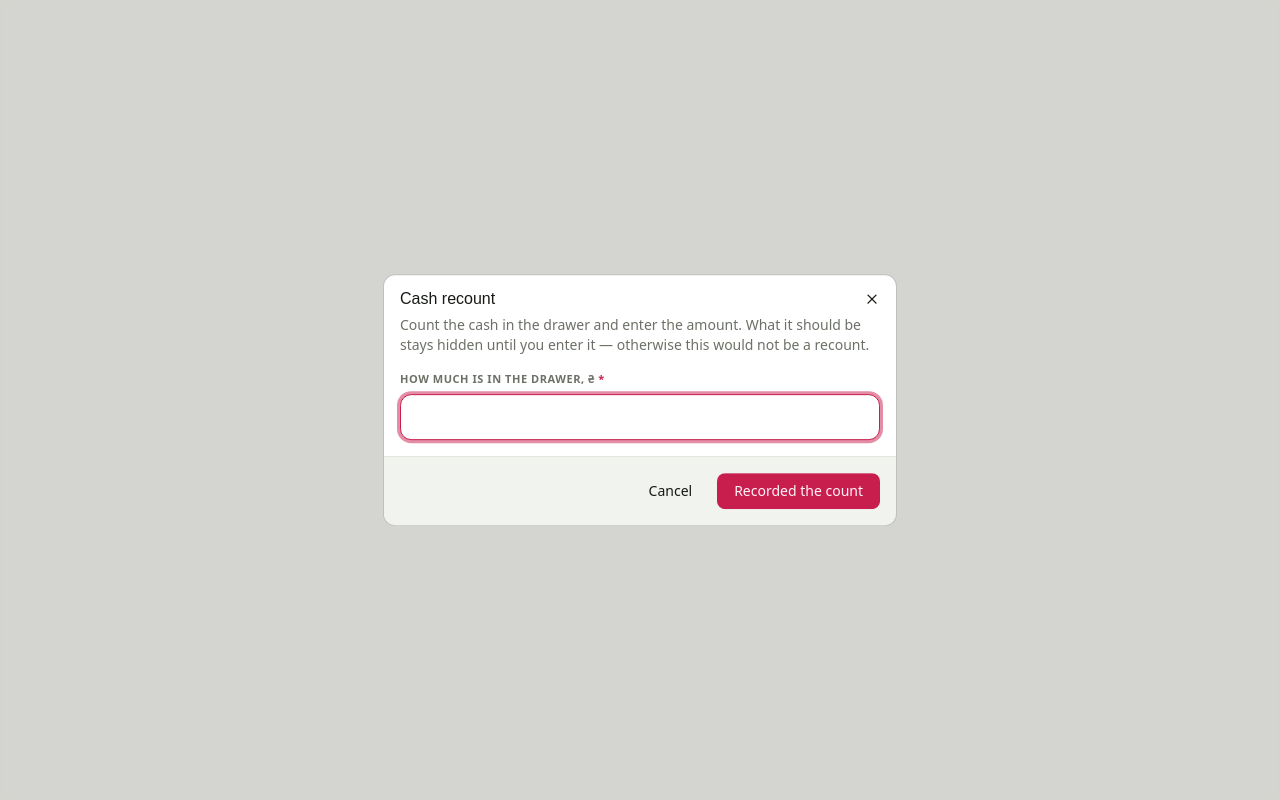
Scenario: RecountDrawerDialog › shows the result view — expected, counted and a matched pill — after a matching recount
The image size is (1280, 800).
Type "1500.00" into the field at [640, 417], box [400,394,880,440]
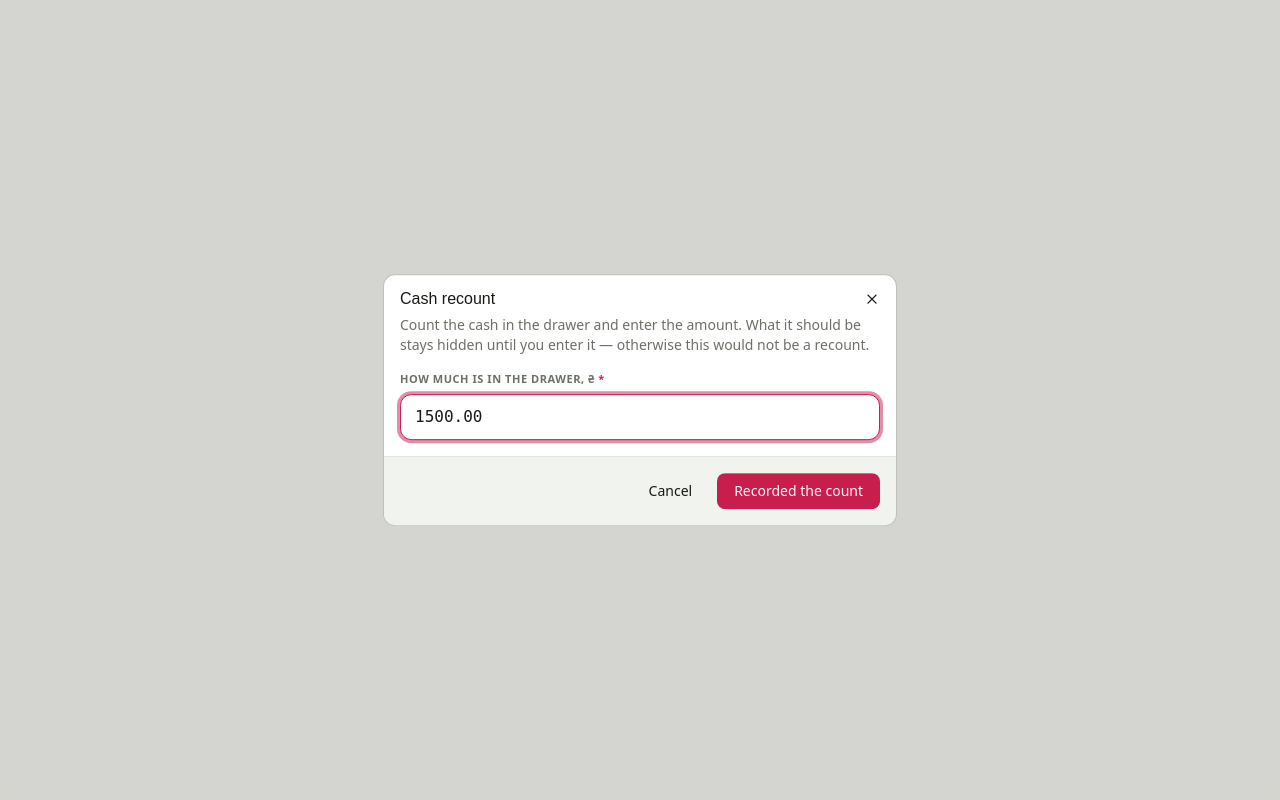
Click the button "Recorded the count" at [799, 491], box [717,473,880,509]
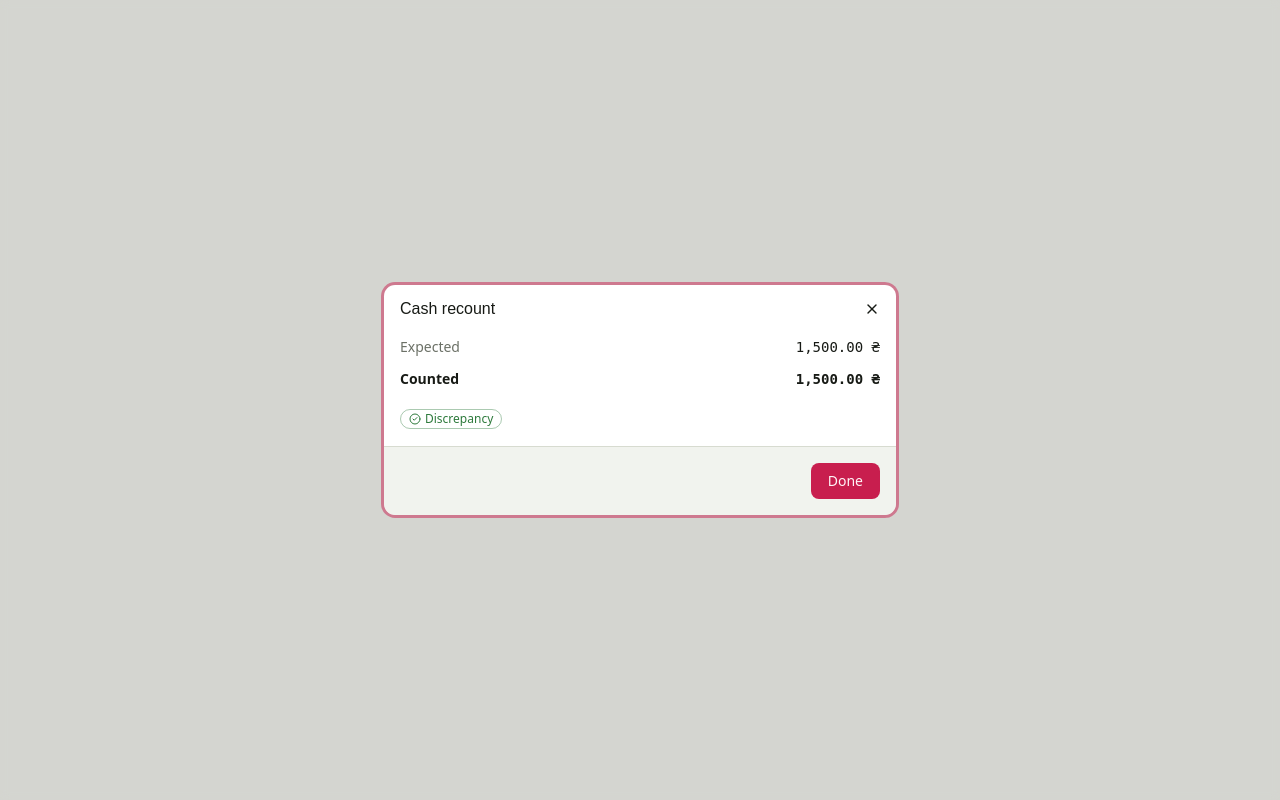
Expected: the text "Expected" is shown, [400,337,460,357]
Expected: the text "Counted" is shown, [400,369,459,389]
Expected: the text "1,500.00 ₴" is shown 2 times, [796,337,880,357]; [796,369,880,389]
